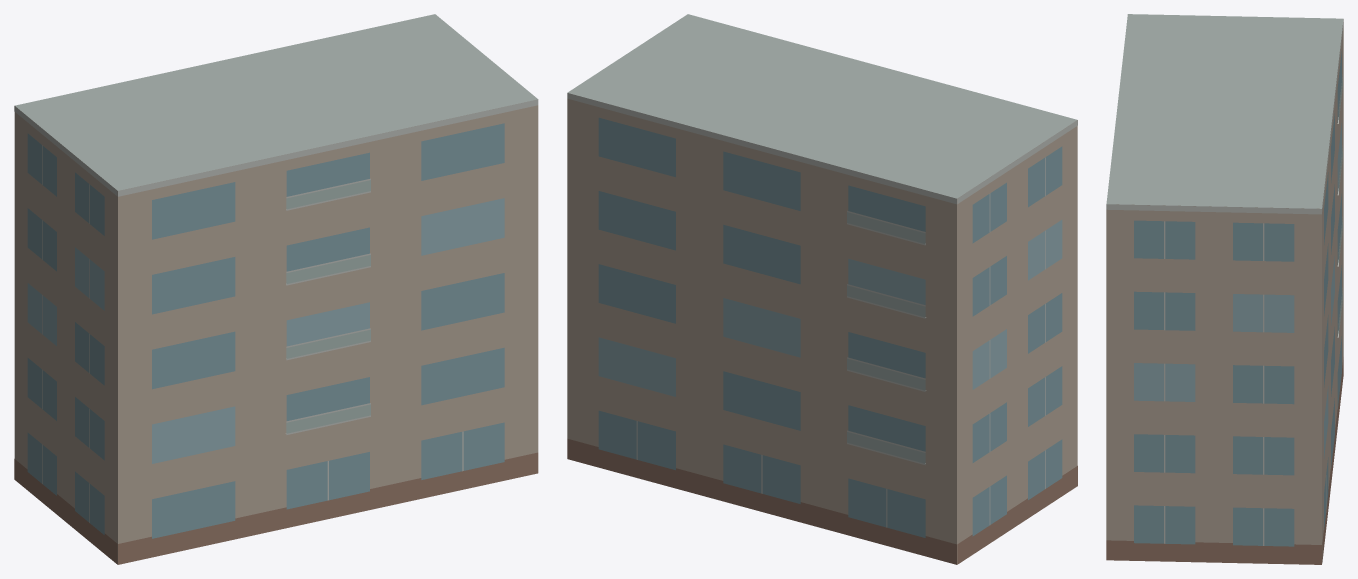
Rendered from survey-upis-32868006.glb.
3 views of the same model, side by side, from view 1: azimuth 30°, elevation 25°; view 2: azimuth 150°, elevation 25°; view 3: azimuth 270°, elevation 25° (orthographic). The views are drawn at different scales.
Parts seen in each view (by area): view 1: survey-upis-32868006.tmp; view 2: survey-upis-32868006.tmp; view 3: survey-upis-32868006.tmp.
Part boxes in pixels (<box>): survey-upis-32868006.tmp: <box>14,14,538,564</box>; survey-upis-32868006.tmp: <box>567,14,1077,564</box>; survey-upis-32868006.tmp: <box>1106,14,1343,564</box>.
Size of the model in its own units: 18.2 by 15.5 by 9.37.
